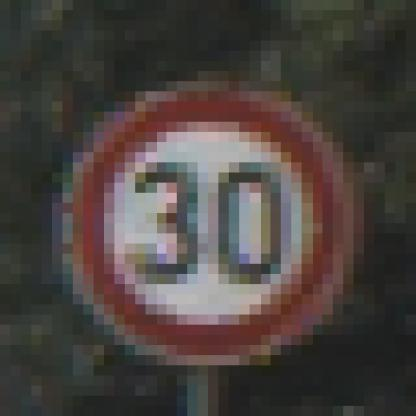Speed Limit 30: (74, 92, 340, 363)
